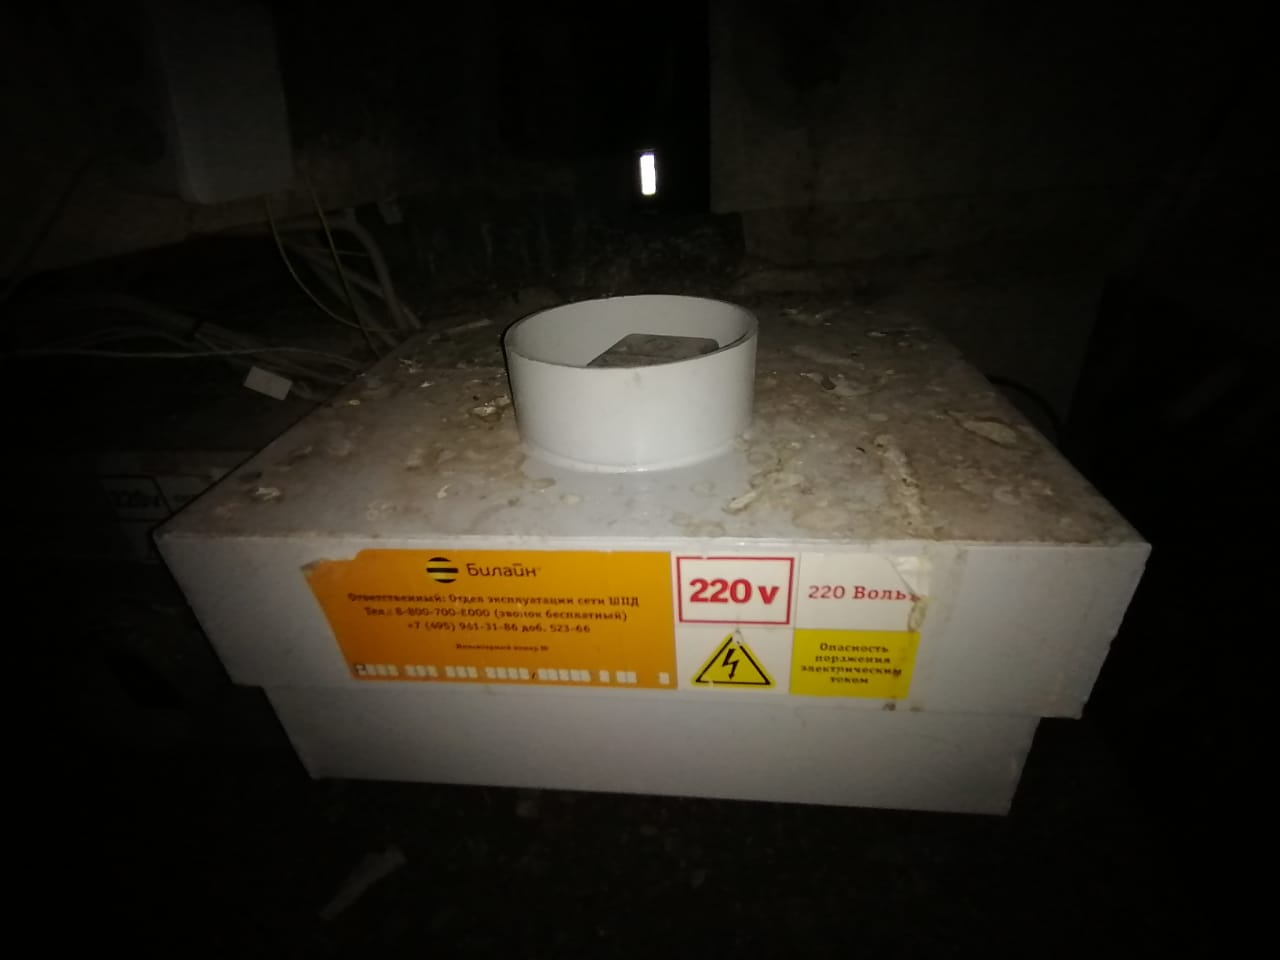shta-ps: (128, 256, 1181, 840)
